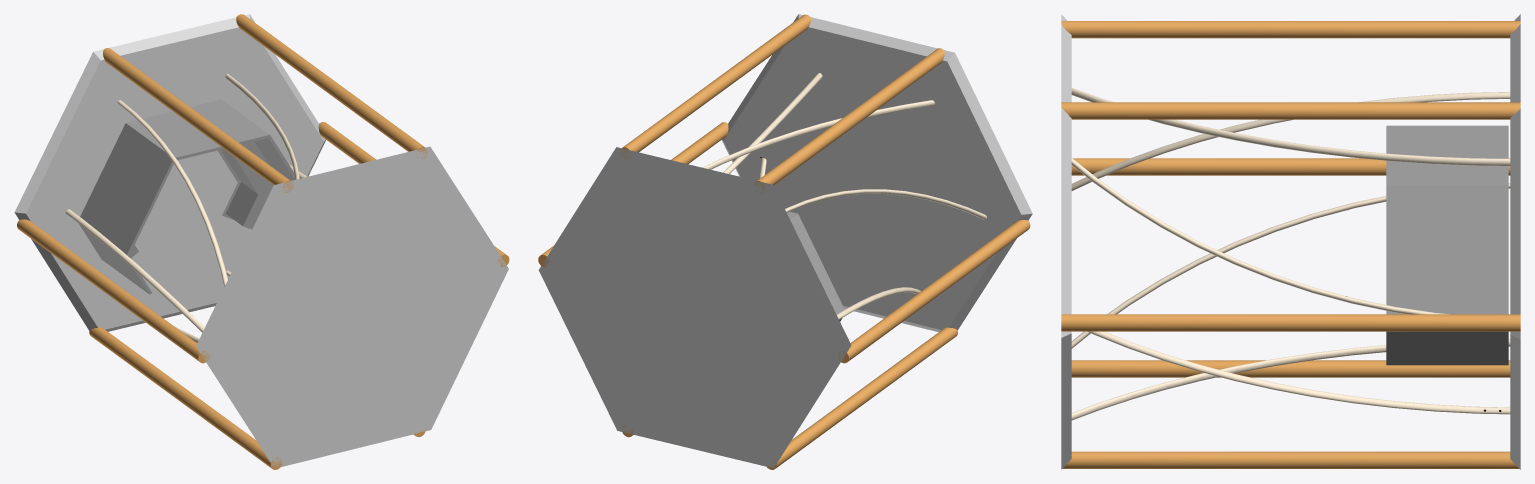
The model's file is 4dock.glb.
3 views of the same model, side by side, from view 1: azimuth 30°, elevation 25°; view 2: azimuth 150°, elevation 25°; view 3: azimuth 270°, elevation 25° (orthographic). The views are drawn at different scales.
Visible parts, largest first — view 1: dock; view 2: dock; view 3: dock.
Boxes of the visible parts, x1,y1,x2,y2 form: dock: (14, 14, 509, 469); dock: (538, 14, 1032, 469); dock: (1061, 14, 1520, 469).
Bounding box in the file's own units: 36.76 × 32.41 × 36.83.
